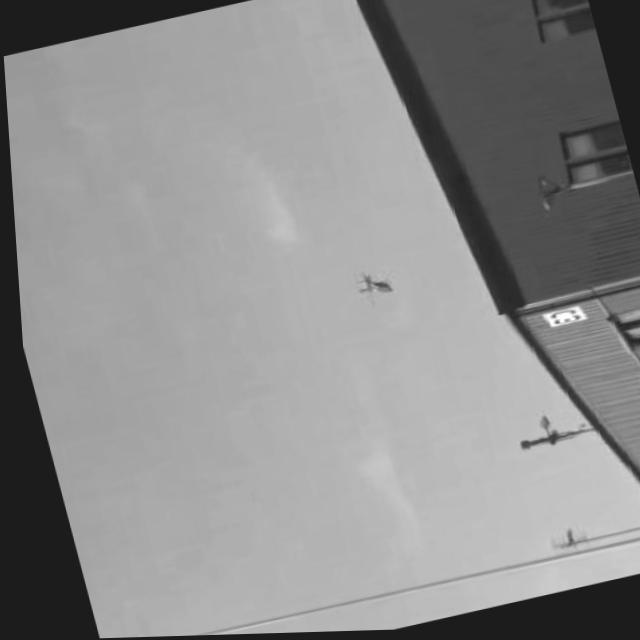helikopter: (339, 265, 398, 318)
